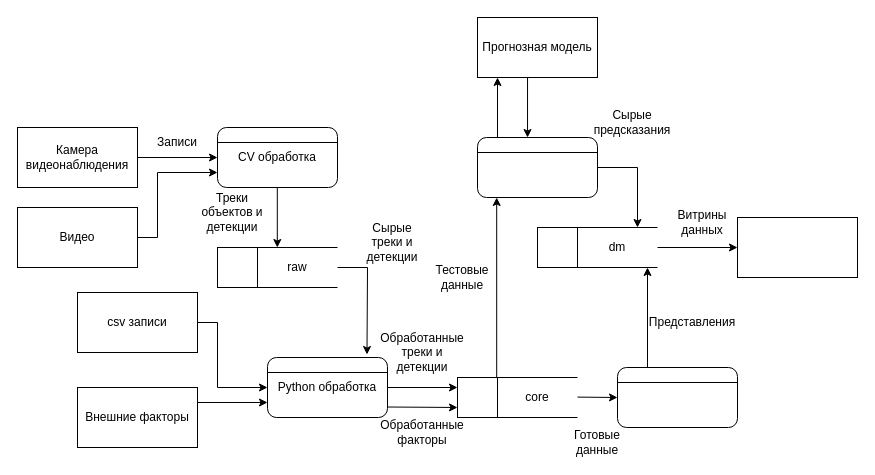
Some shapes in this 875 by 475 pixel diagram are drawn without their labels. Each missing label, with the centre of its shape:
Дашборд Yandex DataLens: the point at 797,247
Прогнозирование результатов: the point at 537,167
Скртипты для представлений: the point at 677,397
